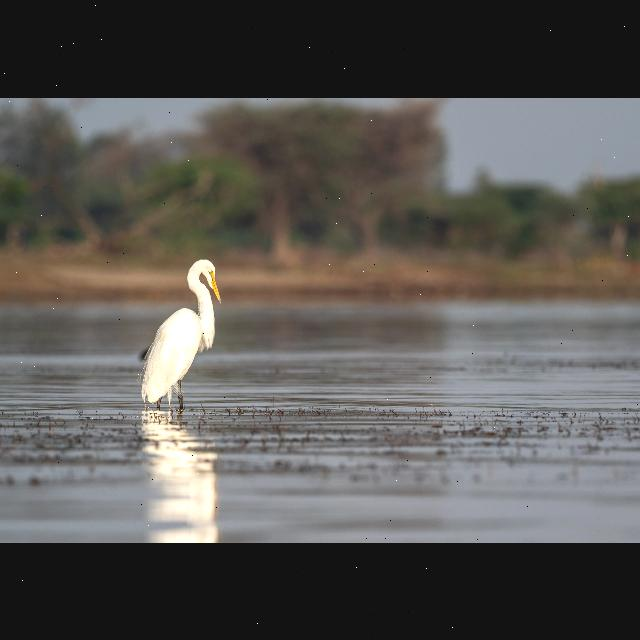egret: (134, 254, 230, 416)
